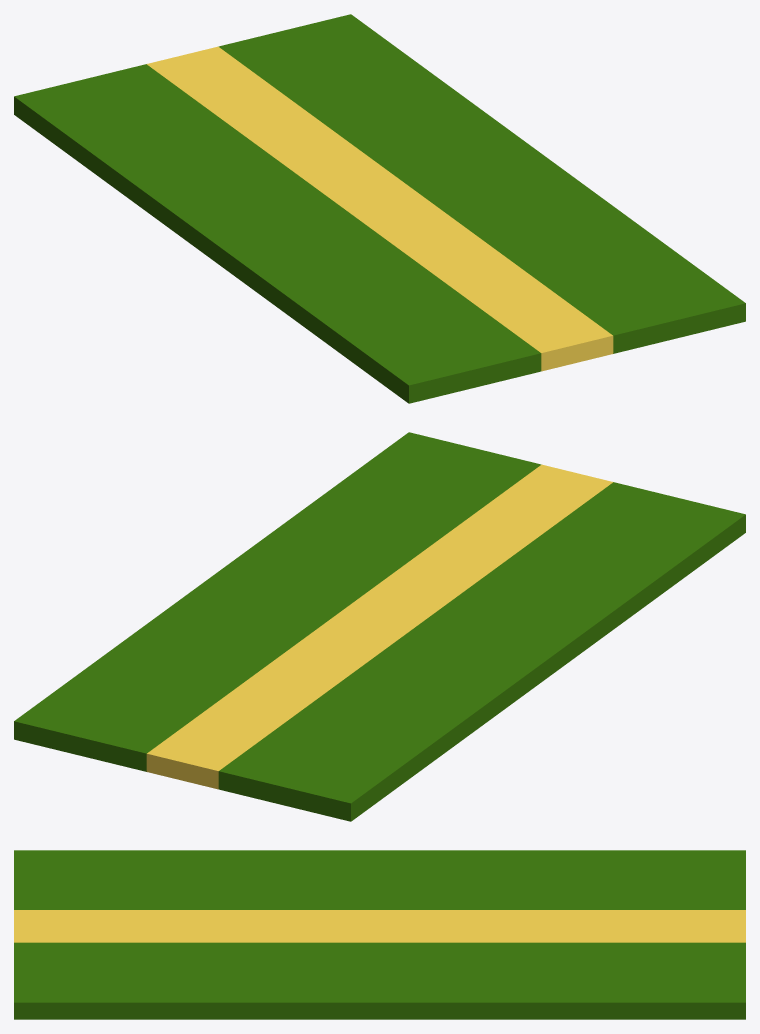
The model's file is SM_Rasentile_01.fbx.
3 renders of one model, top to bottom at view 1: azimuth 30°, elevation 25°; view 2: azimuth 150°, elevation 25°; view 3: azimuth 270°, elevation 25°, orthographic. The views are drawn at different scales.
Visible parts, largest first — view 1: Rasentile_01.001; view 2: Rasentile_01.001; view 3: Rasentile_01.001.
Boxes of the visible parts, box(x1,y1,x2,y2) form: Rasentile_01.001: box(14, 14, 745, 403); Rasentile_01.001: box(14, 432, 745, 821); Rasentile_01.001: box(14, 850, 745, 1019).
Size of the model in its own units: 2461 by 128 by 4996.
